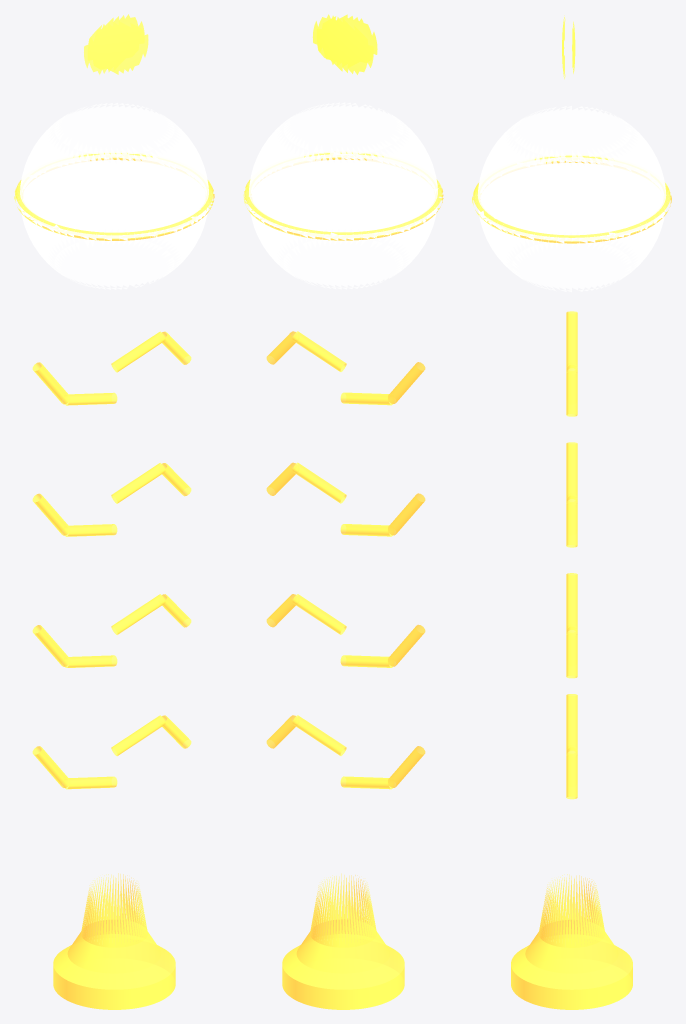
The model's file is weather-machine.glb.
The picture shows the model from 3 angles, left to right: view 1: azimuth 30°, elevation 25°; view 2: azimuth 150°, elevation 25°; view 3: azimuth 270°, elevation 25°; orthographic projection.
Visible parts, largest first — view 1: Weather Machine, Weather Machine.001, Weather Machine.002; view 2: Weather Machine, Weather Machine.001, Weather Machine.002; view 3: Weather Machine, Weather Machine.001.
Part boxes in pixels (x1,y1,x2,y2): Weather Machine: [20, 103, 208, 289]; Weather Machine.001: [14, 153, 214, 1009]; Weather Machine.002: [84, 14, 148, 74]; Weather Machine: [249, 102, 437, 289]; Weather Machine.001: [243, 152, 443, 1009]; Weather Machine.002: [312, 14, 377, 74]; Weather Machine: [477, 106, 666, 292]; Weather Machine.001: [472, 155, 671, 1009].
Bounding box in the file's own units: 1.8 × 9.57 × 1.8.
